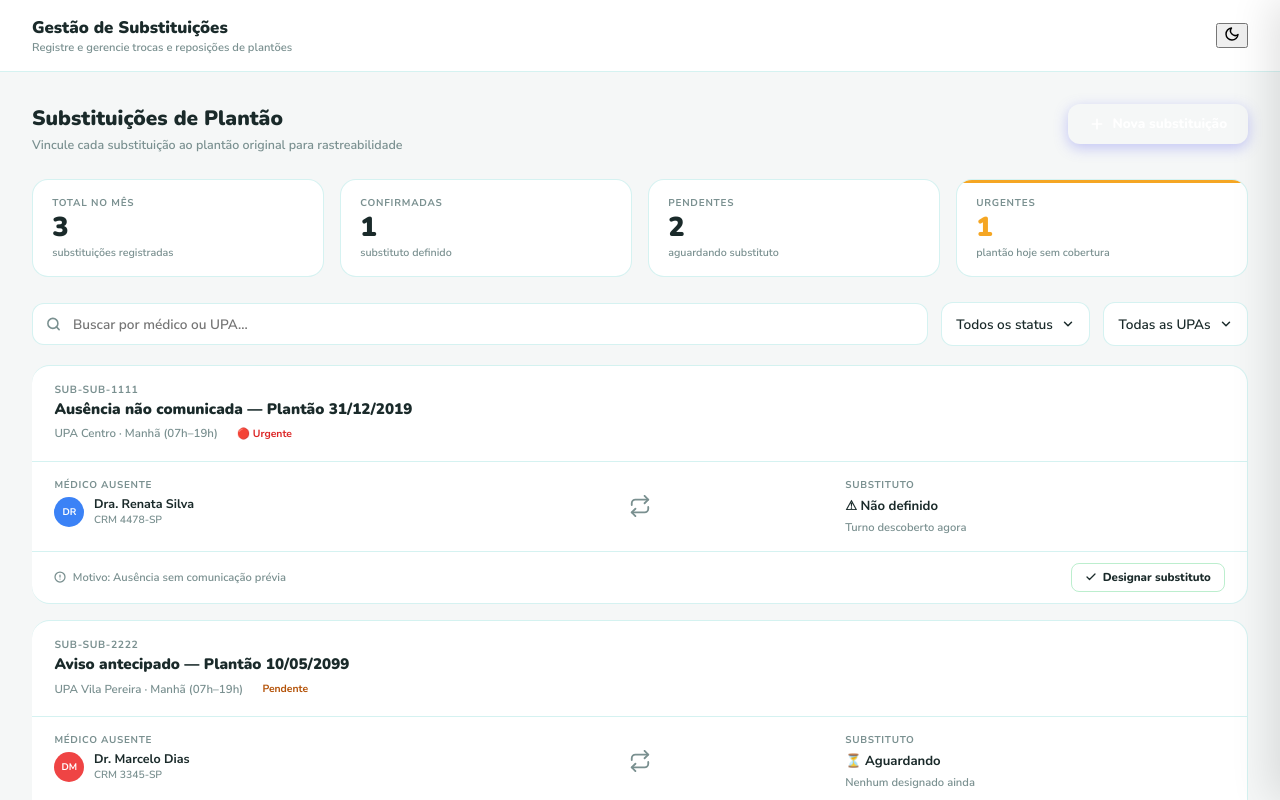
<AdminSubstituicoes /> › exibe toast de erro quando criação falha
Step 1. Click the button "Nova substituição" → click(1158, 124), box [1068,104,1248,144]
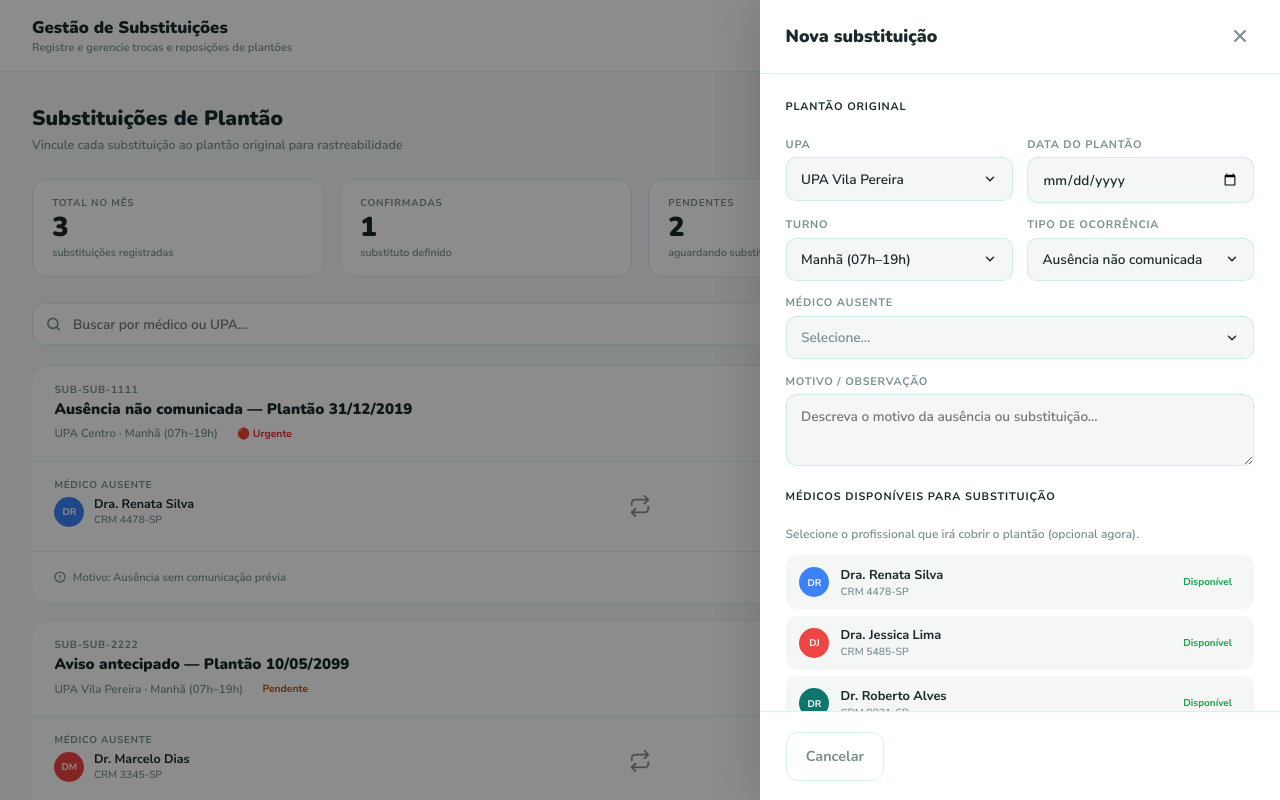
Step 2. Type "2099-06-01" into the date field → (1141, 180), box [1027,157,1254,203]
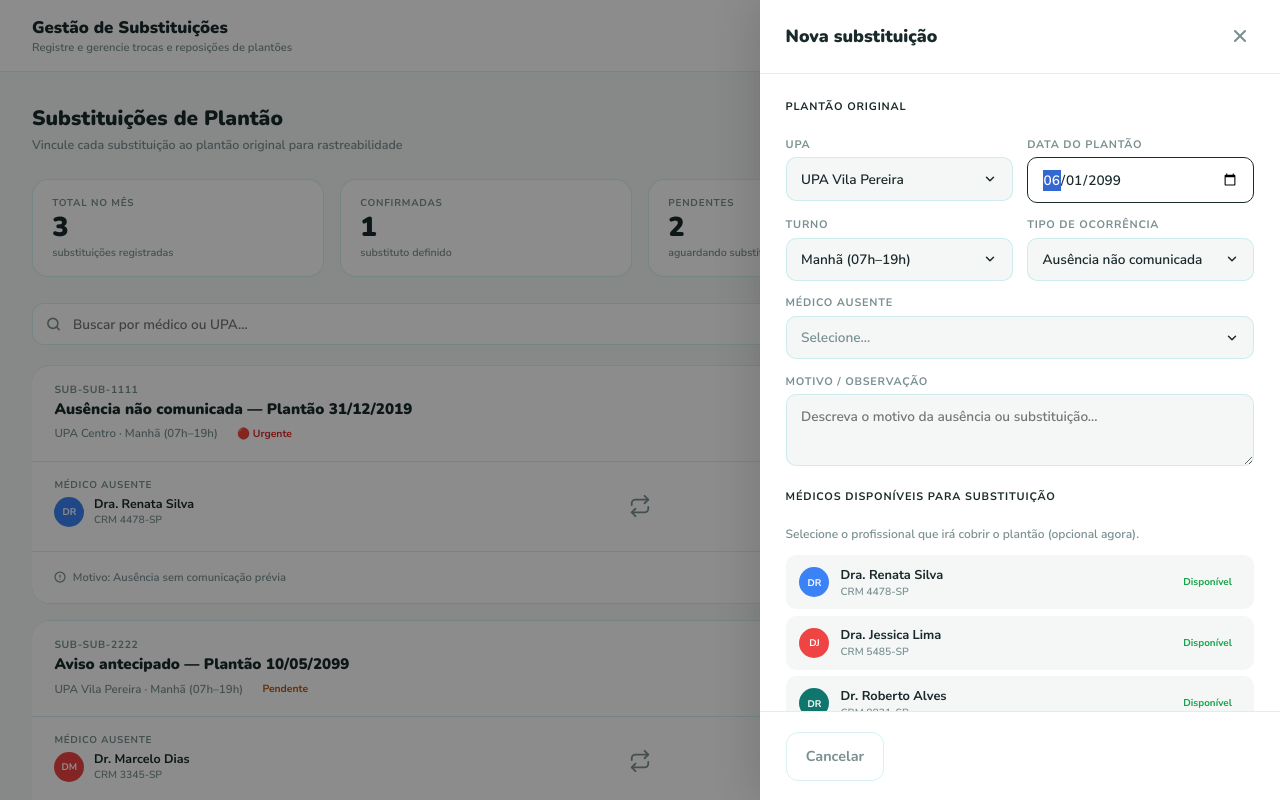
Step 3. Click the button with class "subst-cselect-btn" showing "Selecione..." → click(836, 338), box [786,316,1254,360]
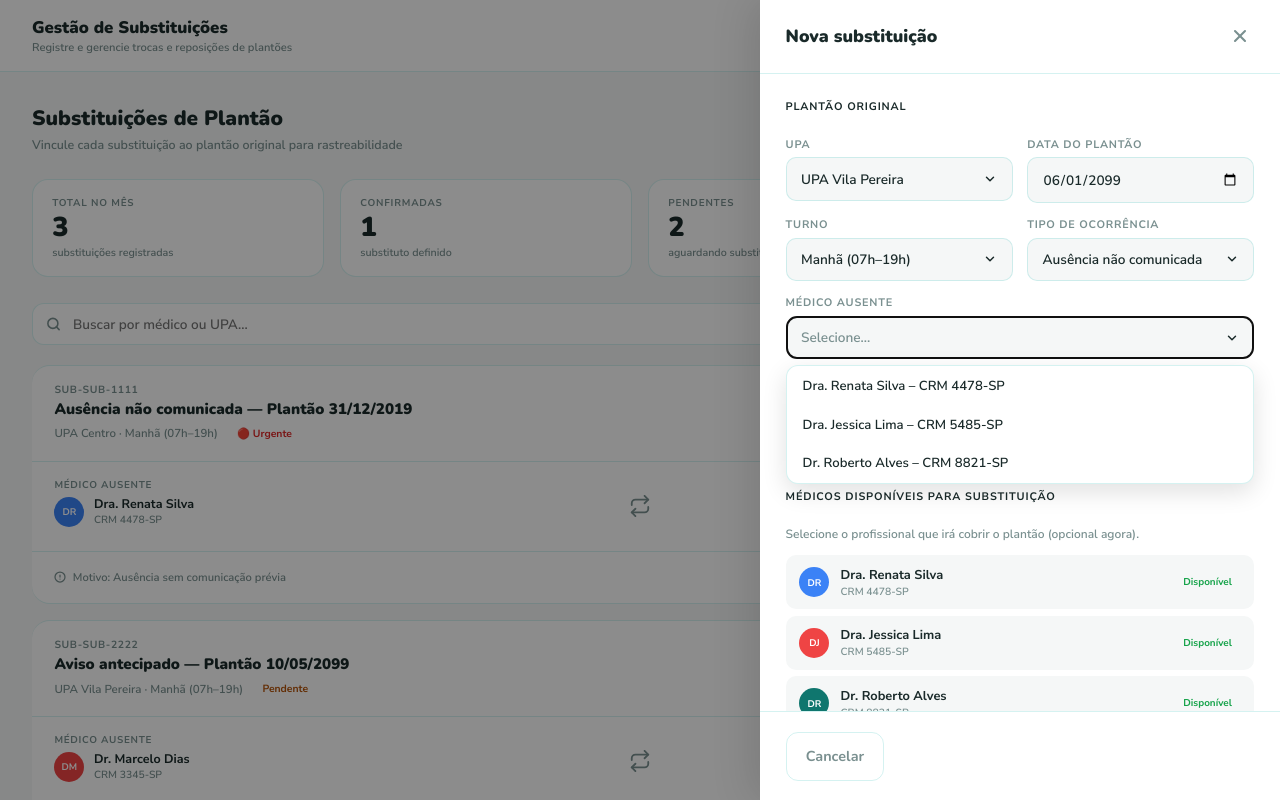
expect the element with class "subst-cselect-dropdown" is shown: met, box [786,366,1254,484]
Step 4. Click the text with class "subst-cselect-option" that starts with "Dra. Renata Silva – CRM 4478-SP" → click(904, 386), box [803,377,1005,395]
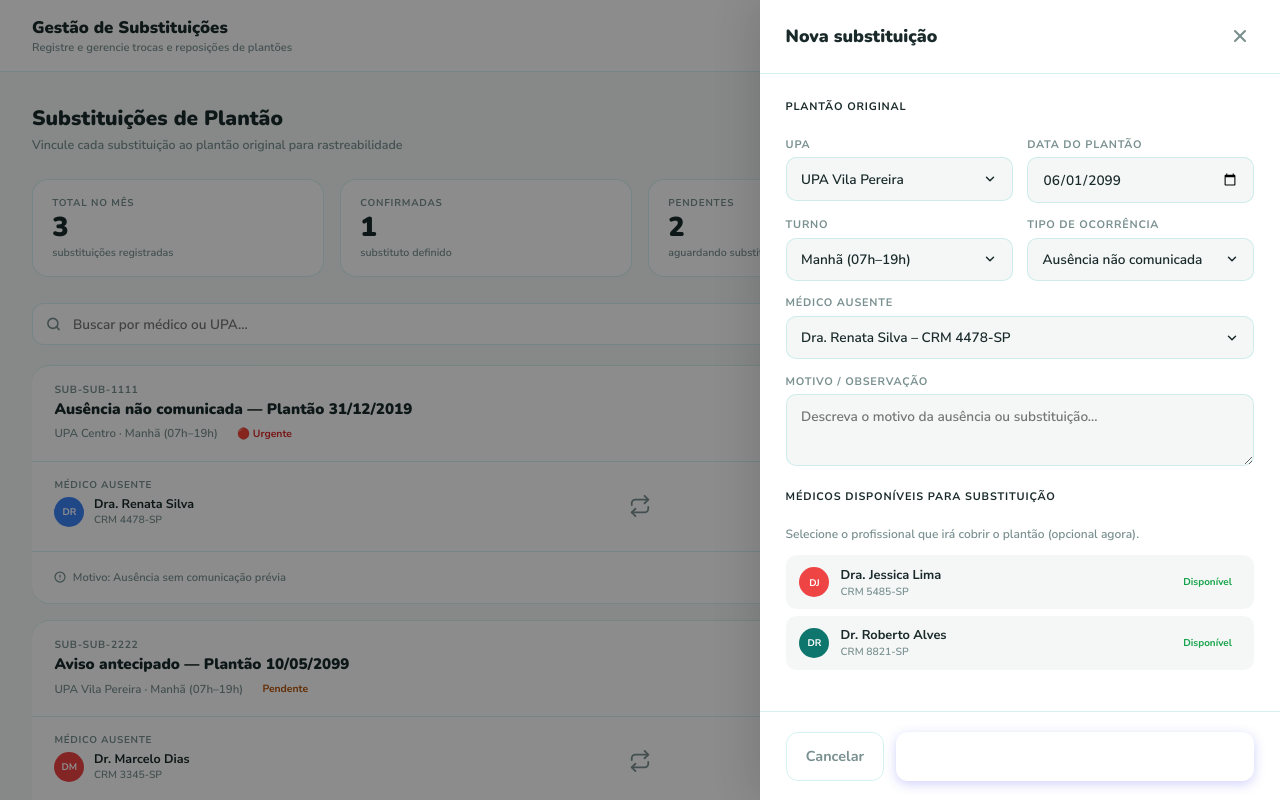
Step 5. Click the button "Confirmar substituição" → click(1075, 756), box [896,732,1254,781]
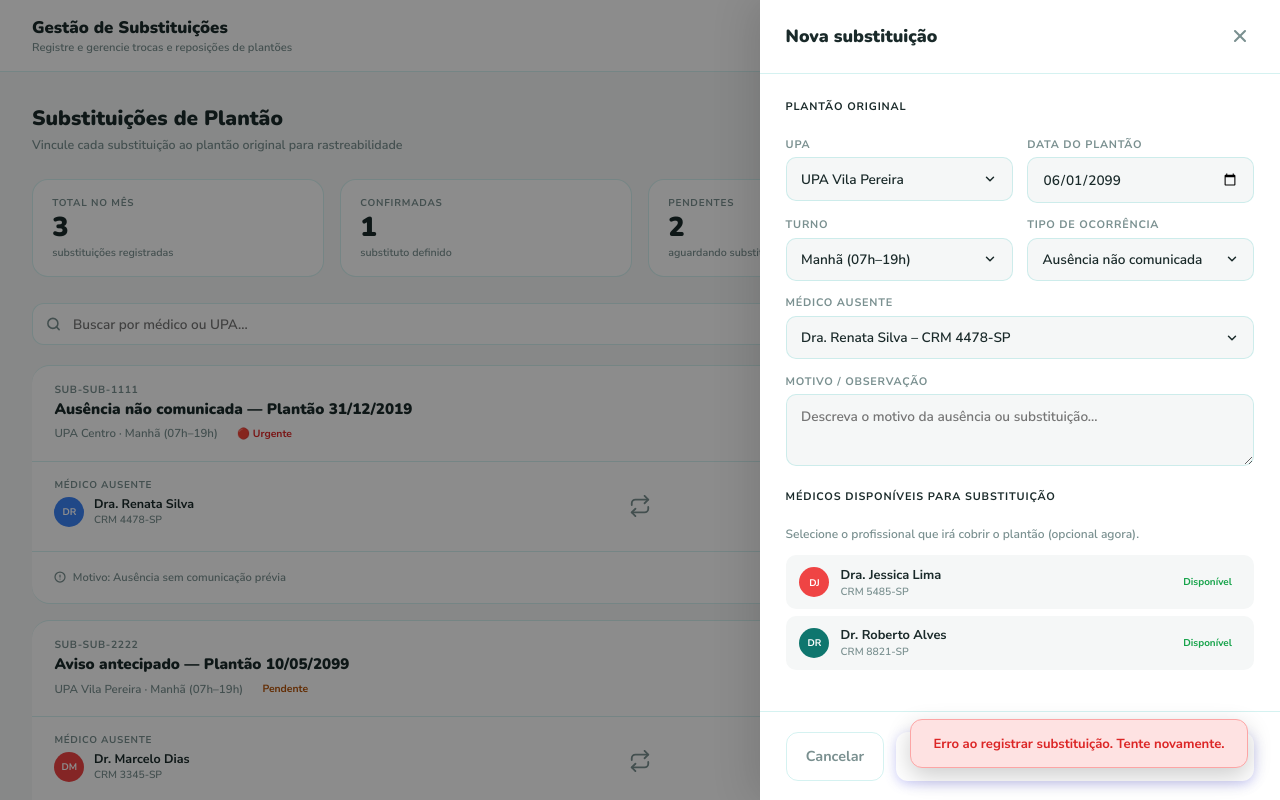
expect the text with class "subst-toast" shows "Erro ao registrar substituição": met, box [934,735,1225,753]
